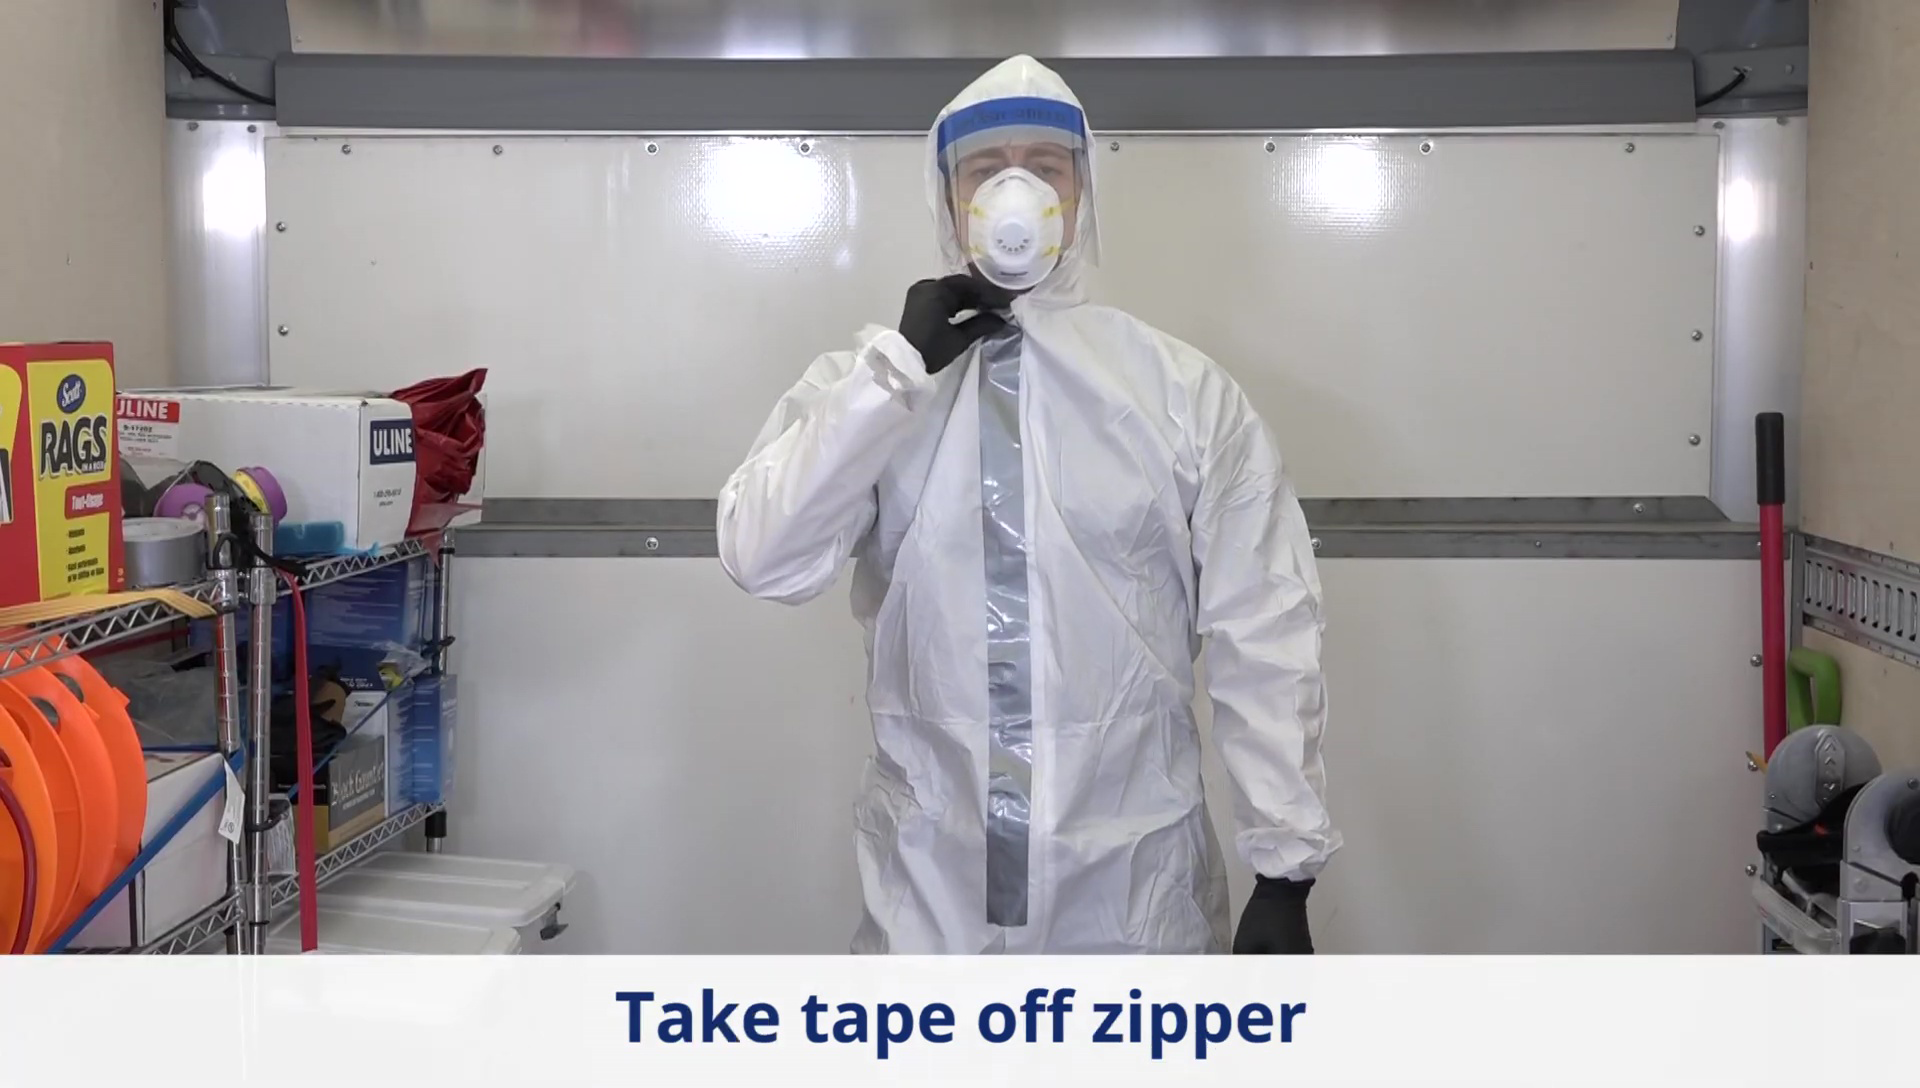Coverall: (716, 53, 1342, 954)
Face_Shield: (933, 96, 1110, 283)
Gloves: (879, 274, 1016, 377), (1235, 873, 1320, 953)
with_mask: (964, 148, 1076, 291)
